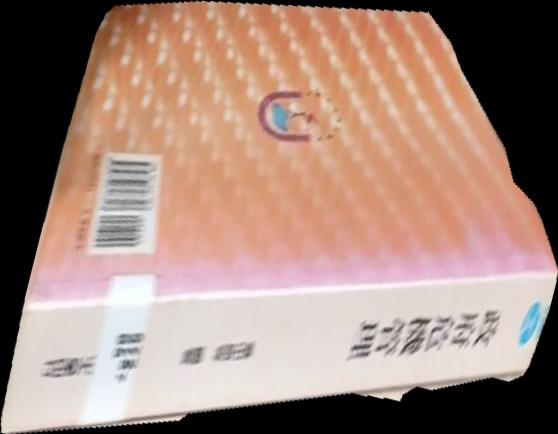flat: (1, 1, 558, 434)
